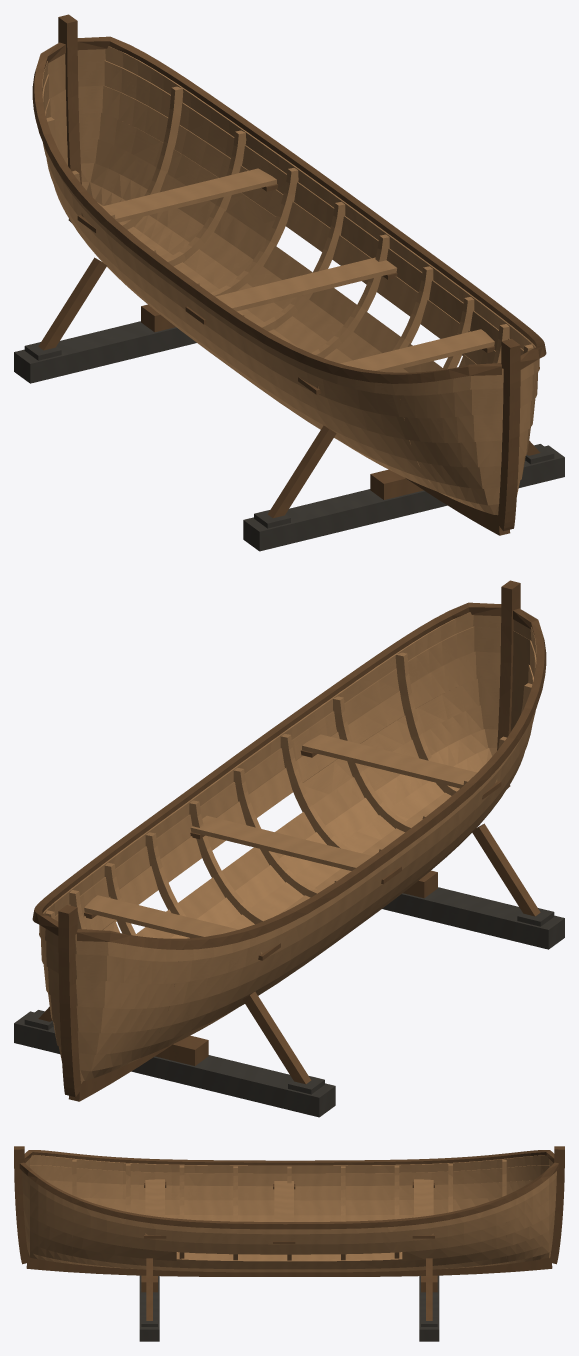
File: ship_lod1.glb
3 views of the same model, one above another, from view 1: azimuth 30°, elevation 25°; view 2: azimuth 150°, elevation 25°; view 3: azimuth 270°, elevation 25° (orthographic). The views are drawn at different scales.
Visible parts, largest first — view 1: lod1_hull_strake_05_starboard_0, lod1_hull_strake_06_port_0, lod1_hull_strake_06_starboard_0, lod1_hull_strake_05_port_0, lod1_trim_gunwale_port, lod1_hull_strake_03_starboard_0, lod1_trestle_1_foot, lod1_hull_strake_04_port_0, lod1_trim_gunwale_starboard, lod1_hull_strake_07_starboard_0, lod1_hull_strake_02_starboard_0, lod1_trestle_0_foot (+21 smaller); view 2: lod1_hull_strake_05_starboard_0, lod1_hull_strake_06_port_0, lod1_hull_strake_06_starboard_0, lod1_hull_strake_05_port_0, lod1_trim_gunwale_port, lod1_hull_strake_03_starboard_0, lod1_trestle_0_foot, lod1_hull_strake_04_port_0, lod1_trim_gunwale_starboard, lod1_hull_strake_07_starboard_0, lod1_hull_strake_02_starboard_0, lod1_trestle_1_foot (+21 smaller); view 3: lod1_hull_strake_05_starboard_0, lod1_hull_strake_06_starboard_0, lod1_hull_strake_06_port_0, lod1_hull_strake_05_port_0, lod1_hull_strake_03_starboard_0, lod1_hull_strake_07_port_0, lod1_trim_gunwale_starboard, lod1_hull_strake_04_port_0, lod1_spine_keel, lod1_hull_strake_07_starboard_0, lod1_trim_gunwale_port, lod1_hull_strake_02_starboard_0 (+18 smaller).
Boxes of the visible parts, bbox=[...] form: lod1_hull_strake_05_starboard_0: bbox=[78, 85, 535, 433]; lod1_hull_strake_06_port_0: bbox=[42, 64, 503, 418]; lod1_hull_strake_06_starboard_0: bbox=[78, 60, 538, 406]; lod1_hull_strake_05_port_0: bbox=[45, 89, 502, 442]; lod1_trim_gunwale_port: bbox=[32, 42, 501, 383]; lod1_hull_strake_03_starboard_0: bbox=[79, 139, 525, 480]; lod1_trestle_1_foot: bbox=[243, 445, 564, 551]; lod1_hull_strake_04_port_0: bbox=[54, 116, 502, 467]; lod1_trim_gunwale_starboard: bbox=[77, 36, 546, 369]; lod1_hull_strake_07_starboard_0: bbox=[77, 46, 539, 381]; lod1_hull_strake_02_starboard_0: bbox=[81, 163, 520, 494]; lod1_trestle_0_foot: bbox=[14, 321, 196, 383]; lod1_hull_strake_05_starboard_0: bbox=[43, 651, 500, 999]; lod1_hull_strake_06_port_0: bbox=[75, 630, 536, 984]; lod1_hull_strake_06_starboard_0: bbox=[40, 626, 500, 972]; lod1_hull_strake_05_port_0: bbox=[76, 655, 533, 1008]; lod1_trim_gunwale_port: bbox=[77, 608, 546, 949]; lod1_hull_strake_03_starboard_0: bbox=[53, 705, 499, 1046]; lod1_trestle_0_foot: bbox=[14, 1011, 335, 1117]; lod1_hull_strake_04_port_0: bbox=[76, 682, 524, 1033]; lod1_trim_gunwale_starboard: bbox=[32, 602, 501, 935]; lod1_hull_strake_07_starboard_0: bbox=[39, 612, 501, 947]; lod1_hull_strake_02_starboard_0: bbox=[58, 729, 497, 1060]; lod1_trestle_1_foot: bbox=[382, 887, 564, 949]; lod1_hull_strake_05_starboard_0: bbox=[23, 1193, 555, 1254]; lod1_hull_strake_06_starboard_0: bbox=[22, 1178, 556, 1244]; lod1_hull_strake_06_port_0: bbox=[28, 1165, 550, 1186]; lod1_hull_strake_05_port_0: bbox=[45, 1180, 533, 1200]; lod1_hull_strake_03_starboard_0: bbox=[24, 1223, 554, 1269]; lod1_hull_strake_07_port_0: bbox=[25, 1155, 553, 1173]; lod1_trim_gunwale_starboard: bbox=[19, 1162, 559, 1229]; lod1_hull_strake_04_port_0: bbox=[79, 1197, 499, 1215]; lod1_spine_keel: bbox=[26, 1257, 552, 1276]; lod1_hull_strake_07_starboard_0: bbox=[22, 1171, 556, 1234]; lod1_trim_gunwale_port: bbox=[24, 1150, 554, 1165]; lod1_hull_strake_02_starboard_0: bbox=[26, 1239, 552, 1272].
Size of the model in its own units: 2.6 by 1.98 by 6.66.
Materials: 6 (6 with a texture image).
